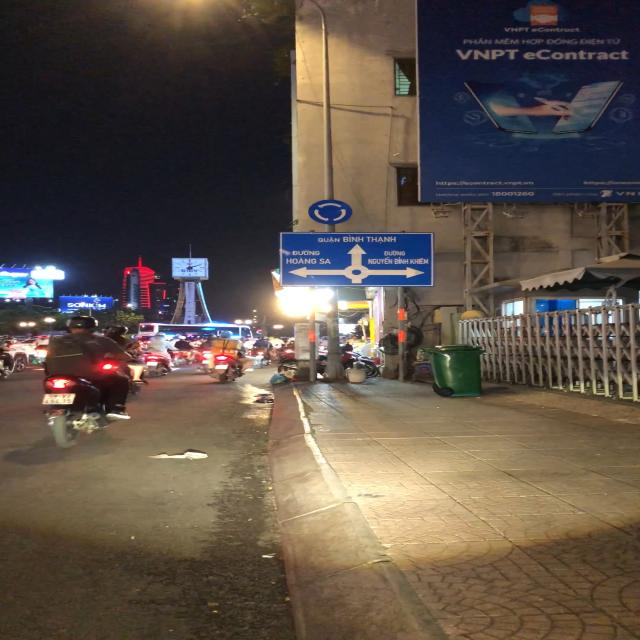Bien bao noi giao nhau chay theo vong xuyen: (306, 199, 353, 225)
